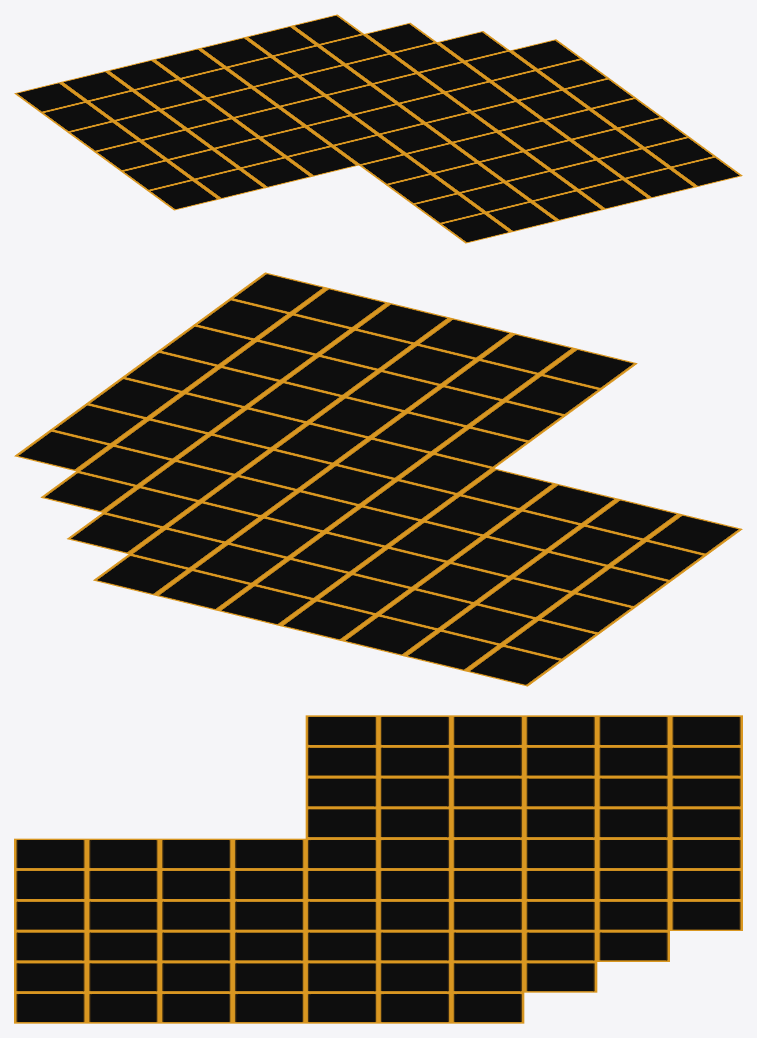
3 renders of one model, top to bottom at view 1: azimuth 30°, elevation 25°; view 2: azimuth 150°, elevation 25°; view 3: azimuth 270°, elevation 25°, orthographic. The views are drawn at different scales.
Visible parts, largest first — view 1: pPlane1; view 2: pPlane1; view 3: pPlane1.
Boxes of the visible parts, x1,y1,x2,y2 form: pPlane1: (14, 14, 742, 243); pPlane1: (14, 272, 742, 686); pPlane1: (14, 715, 742, 1023).
Bounding box in the file's own units: 25 × 3.55e-15 × 25.
